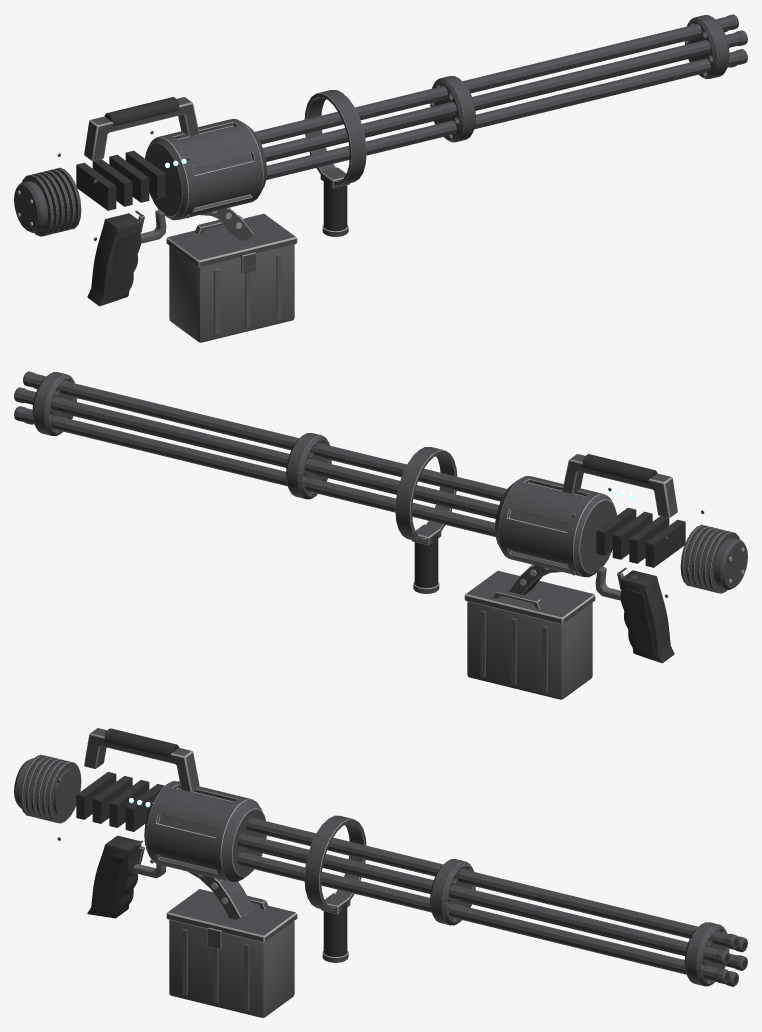
Rendered from w_minigun.glb.
3 views of the same model, one above another, from view 1: azimuth 30°, elevation 25°; view 2: azimuth 150°, elevation 25°; view 3: azimuth 330°, elevation 25° (orthographic).
Parts seen in each view (by area): view 1: W_minigun; view 2: W_minigun; view 3: W_minigun.
Part boxes in pixels (x1,y1,x2,y2): W_minigun: [14, 14, 747, 342]; W_minigun: [14, 371, 747, 699]; W_minigun: [14, 728, 747, 1017].
Size of the model in its own units: 1.04 by 0.3302 by 0.12.
6 materials, 3 textured.
